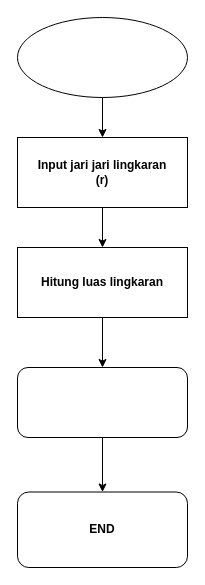
The diagram is 205 pixels wide and 585 high, and some of its shapes have lost their labels. Here are the shapes that lost their labels. From the top down, the box of each, then its label:
(16, 16, 188, 98): Mulai
(16, 366, 188, 438): Cetak hasil
